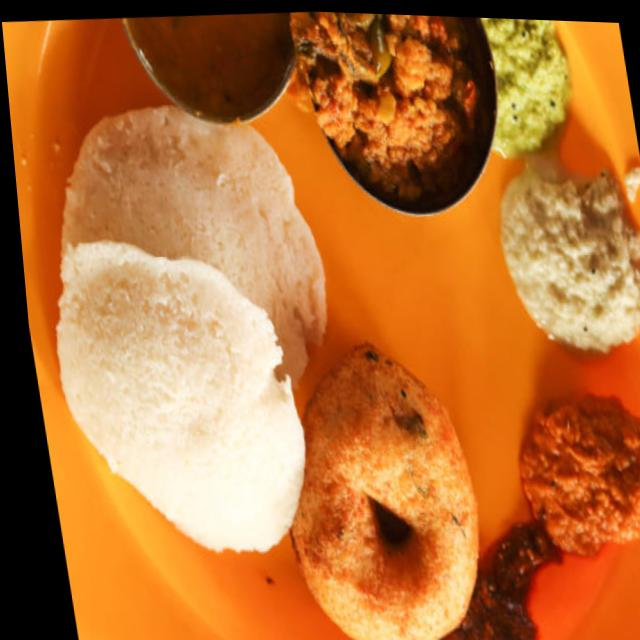GREEN CHUTNEY: (476, 18, 581, 154)
IDLI: (55, 121, 333, 557)
RED CHUTNEY: (499, 382, 640, 568)
SAMBAR: (123, 19, 293, 122)
VADA: (288, 347, 478, 640)
VEGGIES: (290, 13, 494, 207)
WHITE CHUTNEY: (494, 178, 640, 342)
